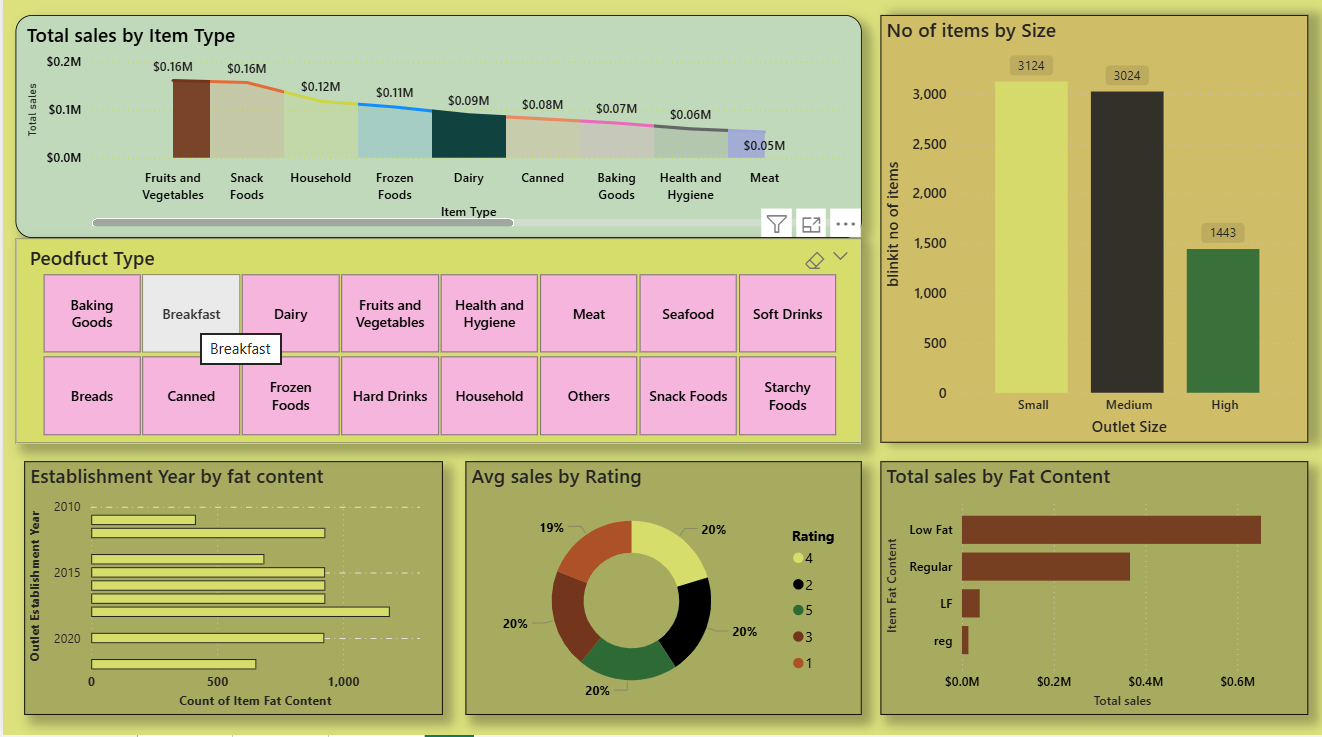

Layout of this report page (visuals, bound fields, positions):
{"tool":"powerbi","page":{"name":"Page 3","canvas":[1280,720],"ordinal":2},"visuals":[{"type":"lineChart","fields":{"Category":["blinkit.Item Type"],"Y":["blinkit.Total sales"]},"box":[11.7,24.7,816.9,215.6],"z":0},{"type":"donutChart","title":"Avg sales by Rating","fields":{"Y":["blinkit.blinkit avg sales"],"Category":["blinkit.Rating"]},"box":[446.2,455.1,382.1,244.9],"z":1000},{"type":"clusteredBarChart","title":" Establishment Year by fat content","fields":{"Category":["blinkit.Outlet Establishment Year"],"Y":["CountNonNull(blinkit.Item Fat Content)"]},"box":[20.5,455.1,403.8,244.9],"z":2000},{"type":"columnChart","title":"No of items by Size","fields":{"Category":["blinkit.Outlet Size"],"Y":["blinkit.blinkit no of items"]},"box":[846.8,24.7,413,413],"z":3000},{"type":"clusteredBarChart","title":"Total sales by  Fat Content","fields":{"Y":["blinkit.Total sales"],"Category":["blinkit.Item Fat Content"]},"box":[847,455,413,245],"z":4000},{"type":"slicer","fields":{"Values":["blinkit.Item Type"]},"box":[11.7,240.3,816.9,197.4],"z":5000}]}

Visuals, with their boxes in screenshot pixels (x1, y1, x2, y2), scaled from the page's 1280x720 canvas onto the 1322x737 screenshot:
lineChart - blinkit.Item Type x blinkit.Total sales: (x1=12, y1=25, x2=856, y2=246)
"Avg sales by Rating" donutChart: (x1=461, y1=466, x2=855, y2=717)
" Establishment Year by fat content" clusteredBarChart: (x1=21, y1=466, x2=438, y2=717)
"No of items by Size" columnChart: (x1=875, y1=25, x2=1301, y2=448)
"Total sales by  Fat Content" clusteredBarChart: (x1=875, y1=466, x2=1301, y2=717)
slicer - blinkit.Item Type: (x1=12, y1=246, x2=856, y2=448)
